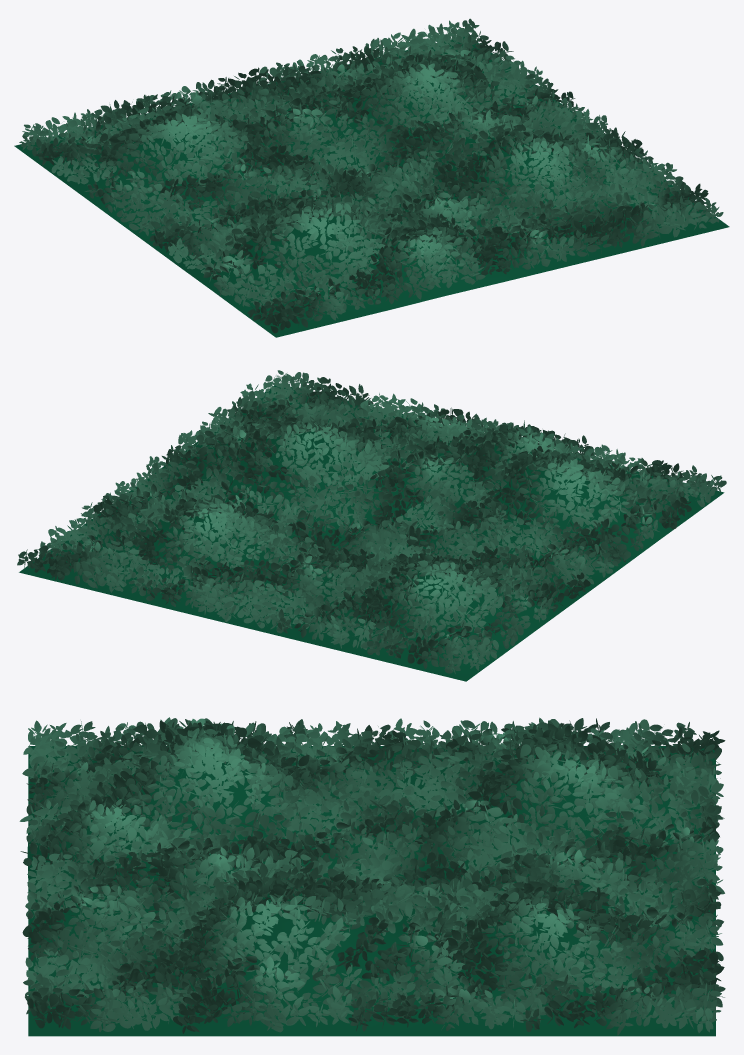
Rendered from canopy.fbx.
3 views of the same model, one above another, from view 1: azimuth 30°, elevation 25°; view 2: azimuth 150°, elevation 25°; view 3: azimuth 270°, elevation 25° (orthographic). The views are drawn at different scales.
Visible parts, largest first — view 1: Canopy; view 2: Canopy; view 3: Canopy.
Part boxes in pixels (box(x1,y1,x2,y2)): Canopy: box(14, 18, 729, 337); Canopy: box(17, 370, 726, 681); Canopy: box(19, 717, 725, 1036).
Bounding box in the file's own units: 3859 × 563 × 3832.
